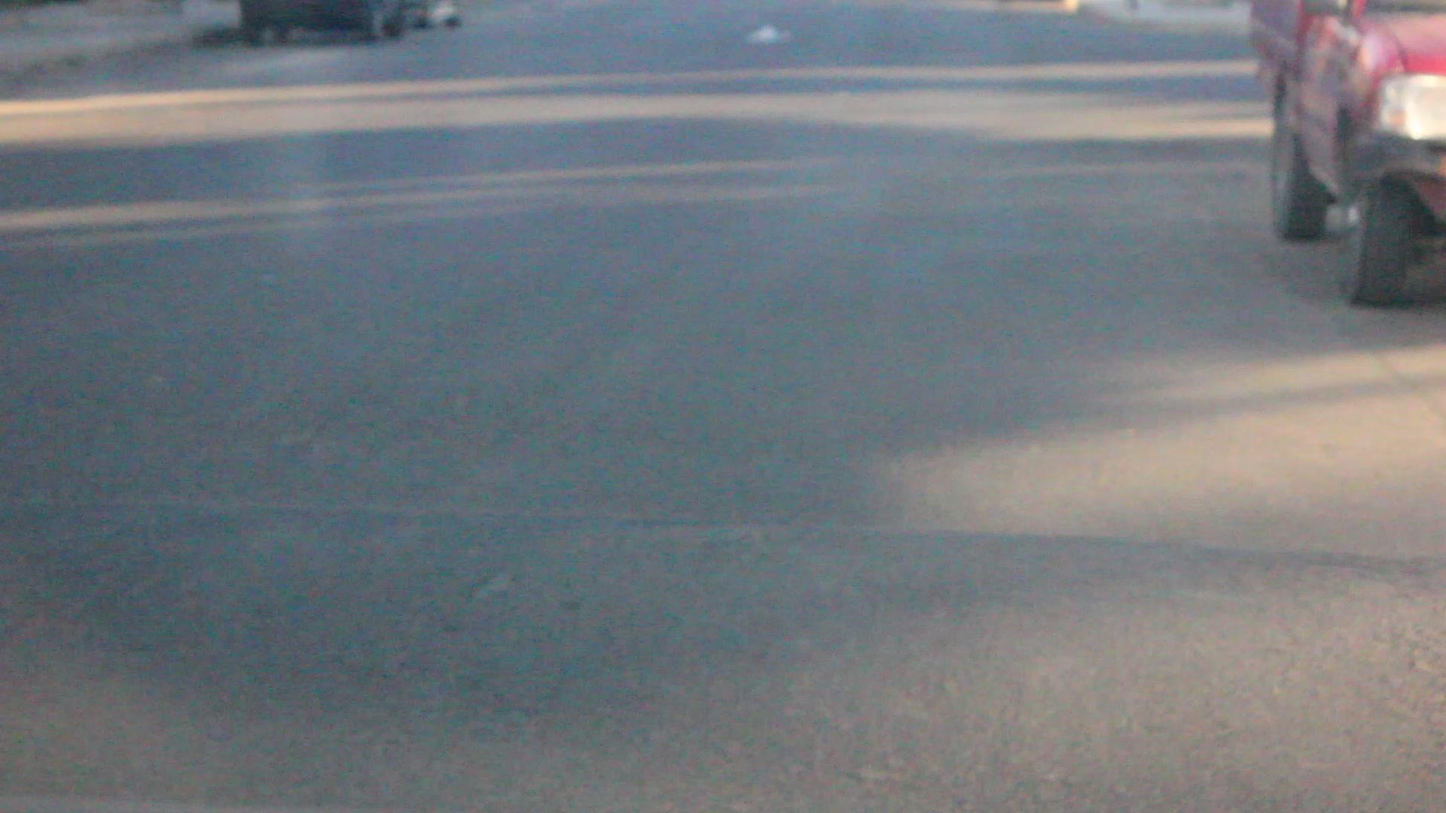Bump: (0, 503, 1444, 812)
